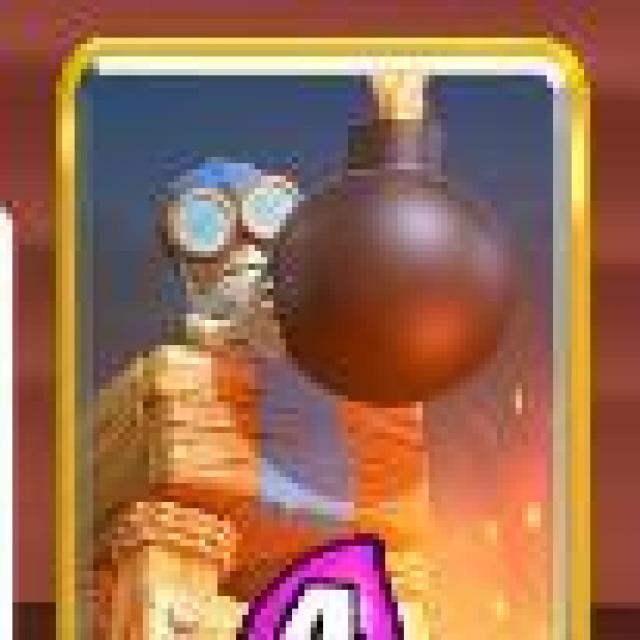Bomb_Tower: (52, 34, 594, 640)
